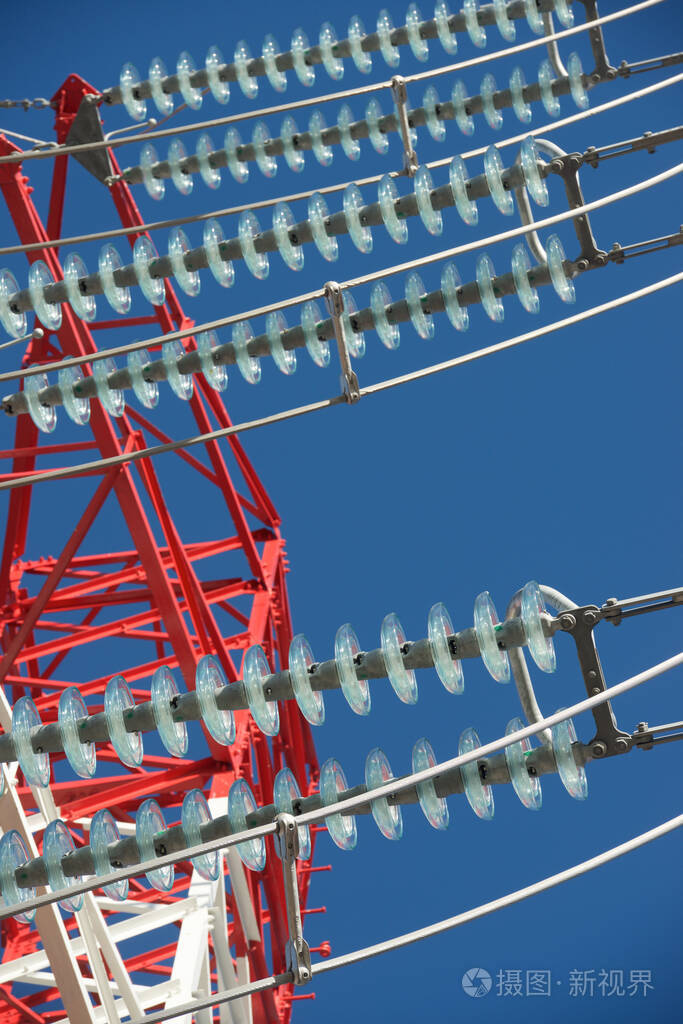insulator: (2, 709, 588, 906), (13, 579, 559, 788), (1, 137, 550, 340), (23, 235, 575, 434), (139, 47, 587, 199), (118, 1, 572, 120)
